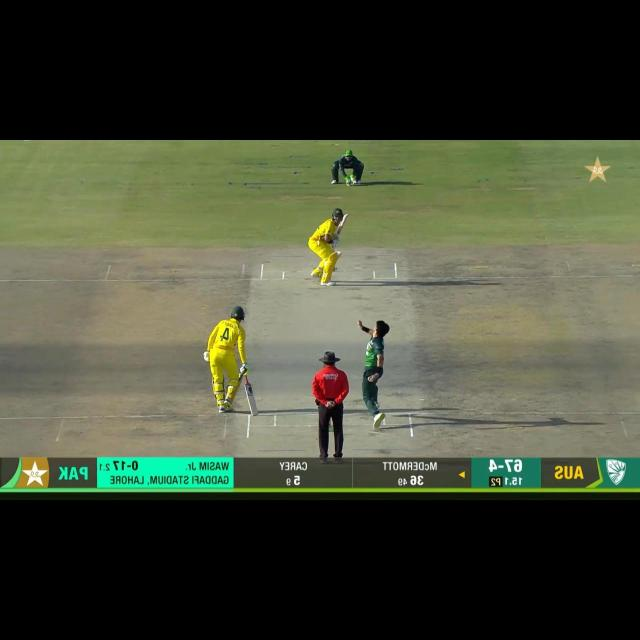bat: (243, 376, 261, 417), (334, 212, 349, 239)
toe: (249, 407, 260, 417), (342, 212, 348, 220)
